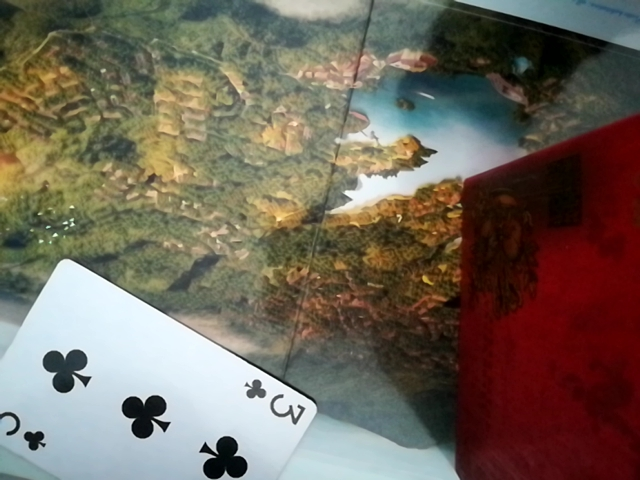mh 3: (0, 259, 319, 478)
